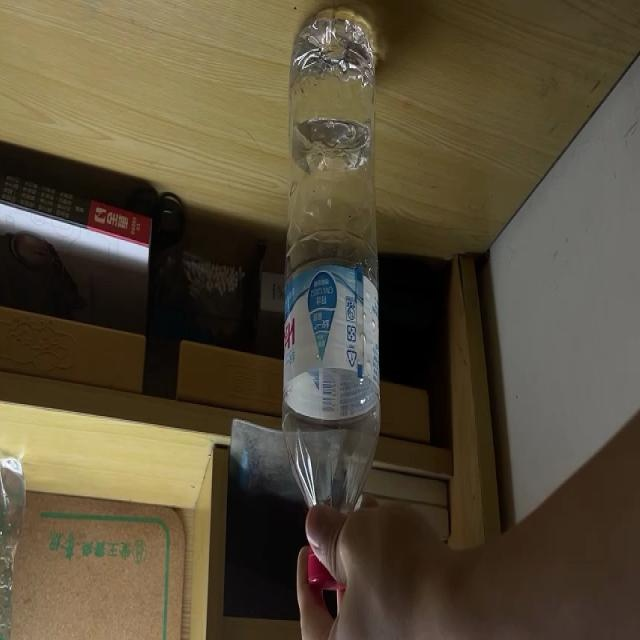Water: (282, 12, 381, 591)
